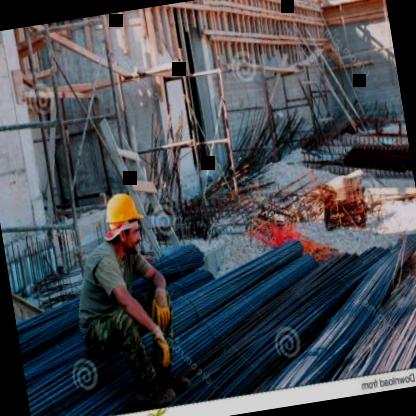helmet: (98, 186, 150, 264)
